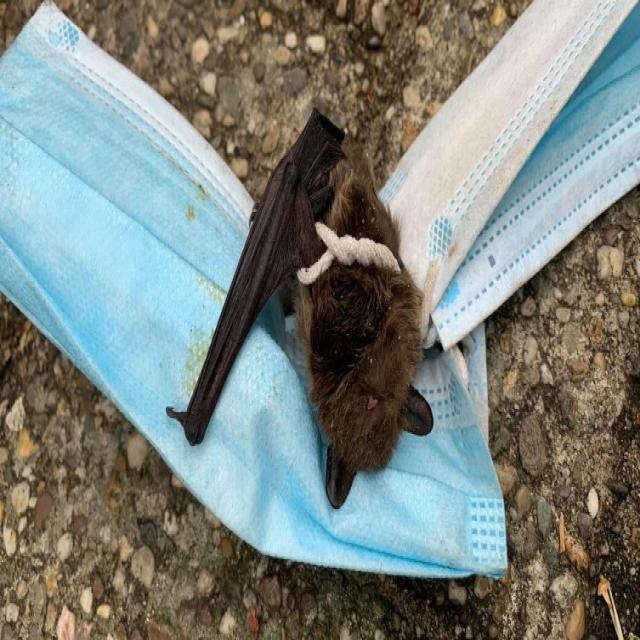Mask: (0, 0, 508, 585), (294, 0, 640, 356)
